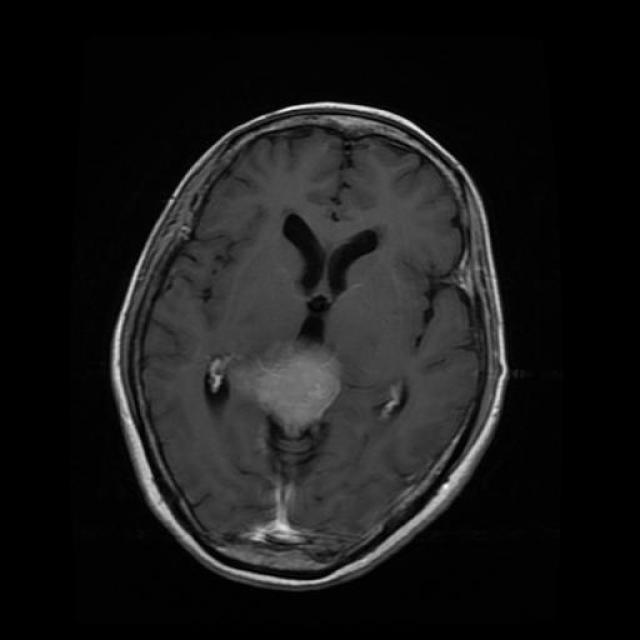meningioma: (259, 350, 341, 439)
